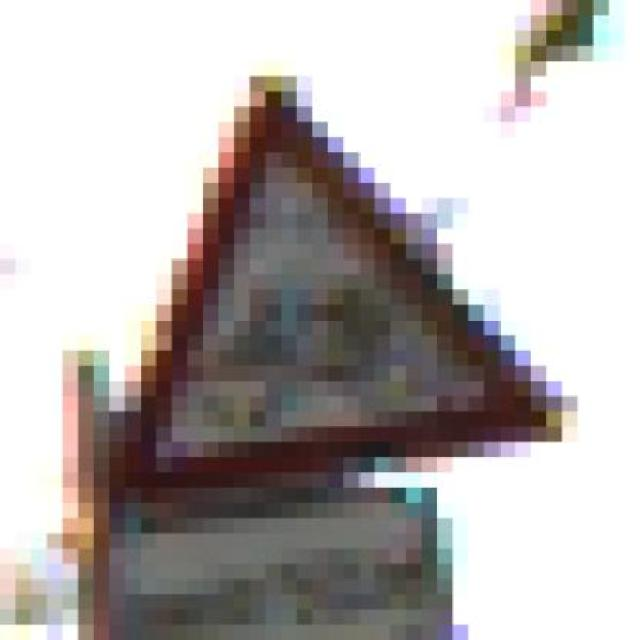CYCLE ROUTE AHEAD WARNING: (47, 76, 578, 518)
